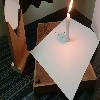fire: (68, 0, 73, 14)
